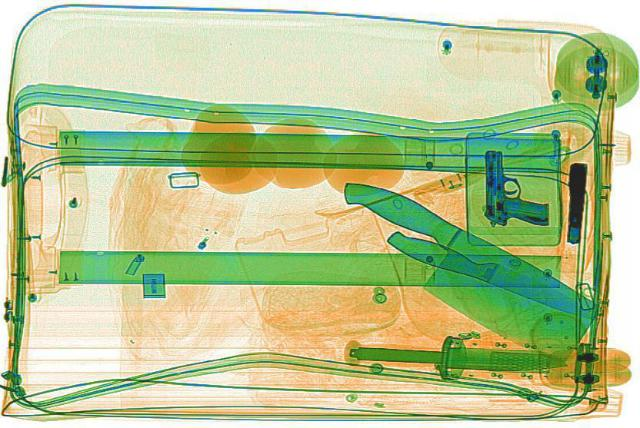Gun: (479, 149, 548, 223), (559, 161, 589, 241)
Knife: (288, 170, 630, 363), (378, 225, 612, 322), (350, 339, 568, 372)
